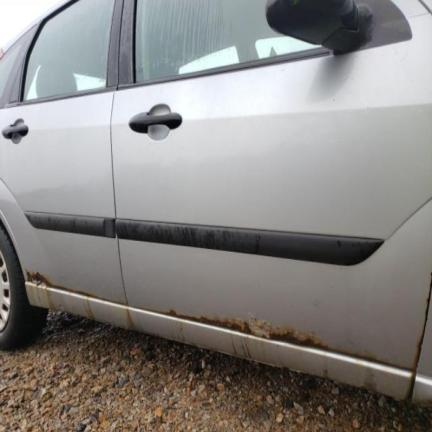rust: (203, 311, 404, 368), (272, 364, 398, 398), (400, 279, 431, 403), (27, 269, 101, 298), (177, 320, 222, 350), (232, 333, 257, 363), (125, 304, 147, 332), (81, 298, 96, 319), (44, 287, 55, 311)
